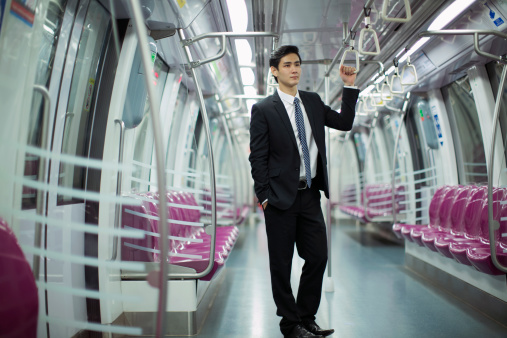em pe: (245, 20, 362, 338)
